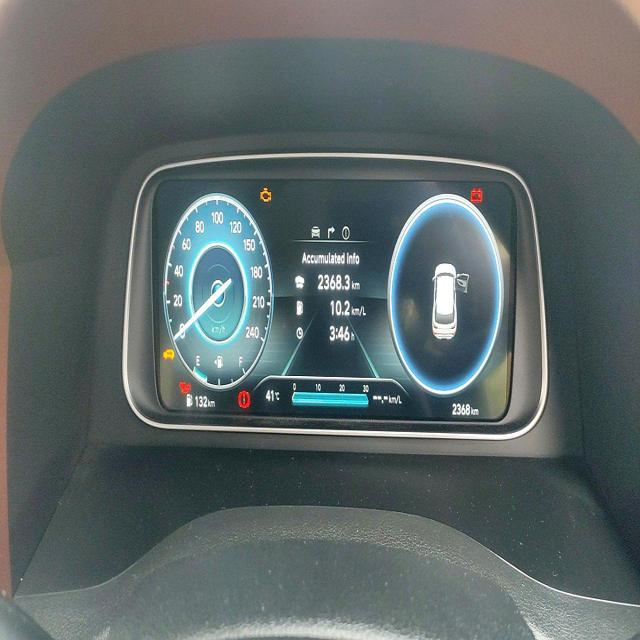odometer: (449, 400, 472, 422)
